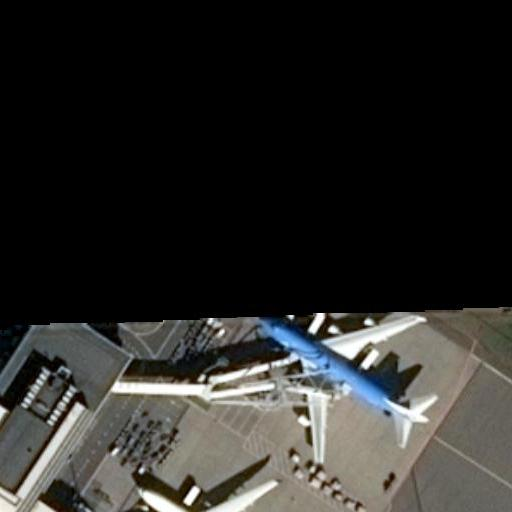Aircraft: (242, 309, 442, 465), (128, 462, 306, 512)
